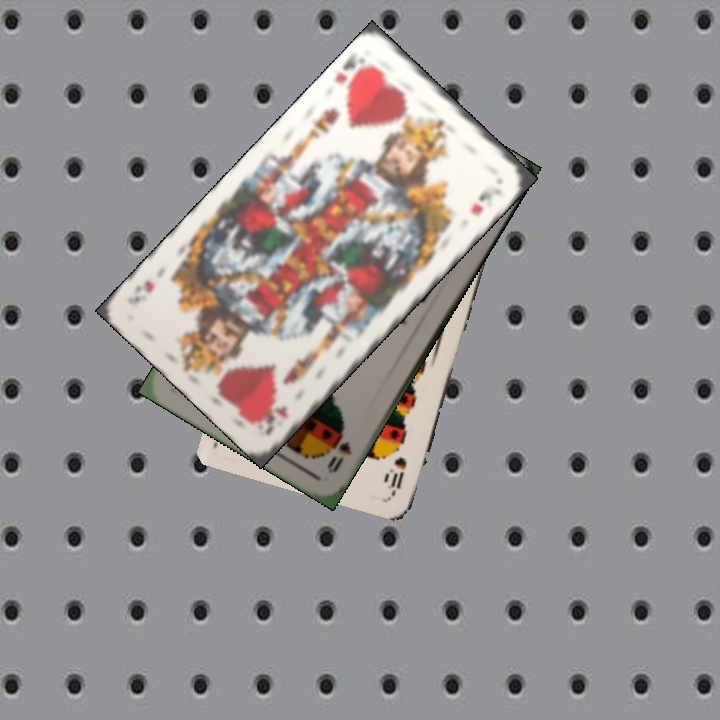HK: (330, 50, 376, 99), (256, 401, 291, 438)
S10: (384, 453, 410, 496)
SO: (323, 437, 355, 476)
